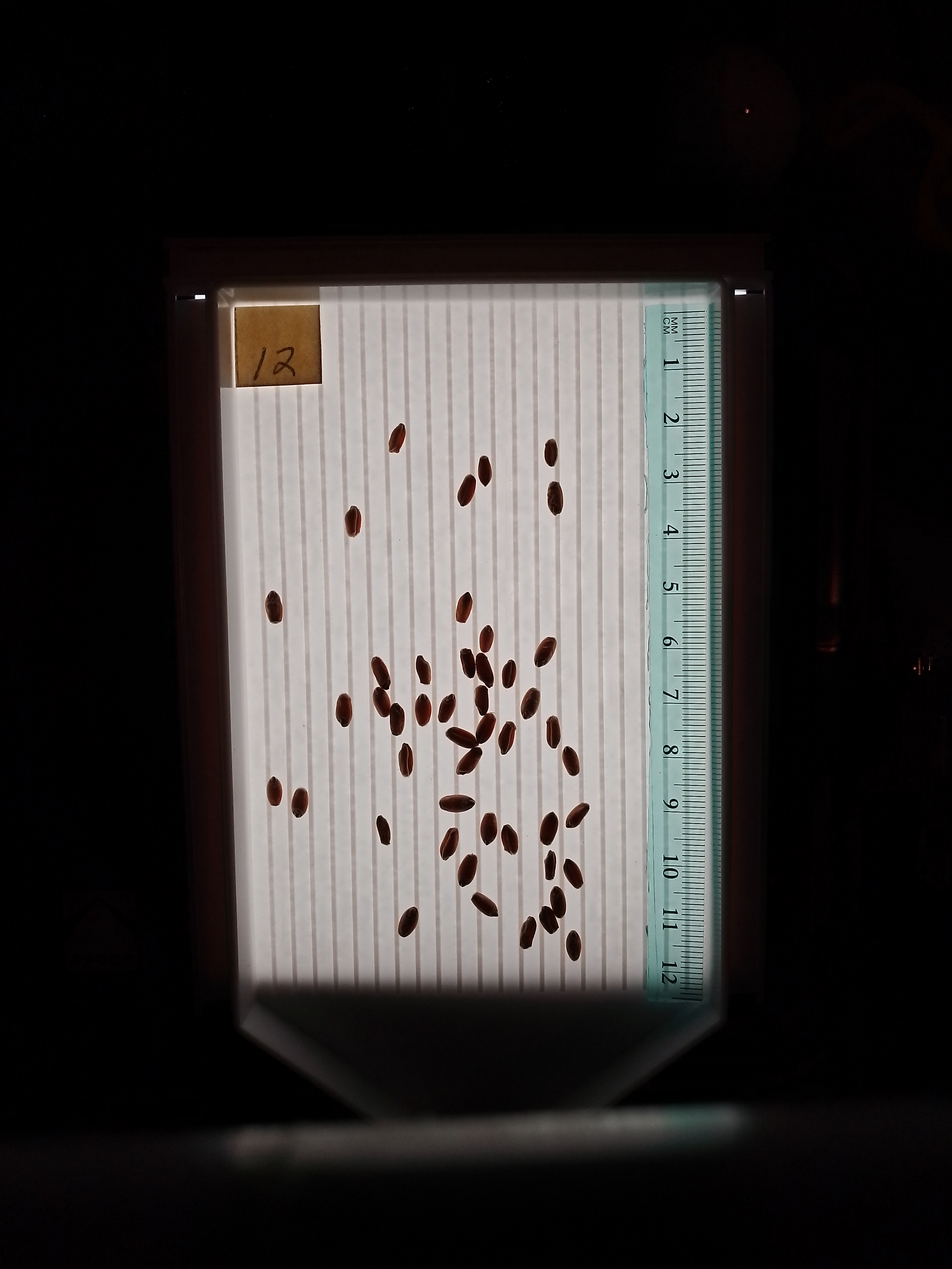seed mask: (535, 637, 557, 667), (457, 747, 481, 774), (398, 907, 419, 937), (472, 893, 498, 917), (440, 794, 474, 812), (447, 727, 476, 748), (539, 813, 558, 845), (335, 694, 353, 727), (440, 829, 459, 860), (458, 854, 476, 886), (566, 803, 588, 829), (476, 714, 495, 744), (547, 482, 564, 515), (372, 657, 390, 688), (480, 813, 498, 844), (564, 859, 583, 888), (476, 654, 493, 686), (521, 689, 539, 719), (458, 476, 476, 506), (265, 592, 282, 623), (373, 688, 391, 717), (501, 825, 519, 854), (388, 425, 406, 454), (520, 917, 536, 949), (389, 704, 405, 735), (456, 594, 473, 623), (291, 789, 308, 818), (415, 695, 431, 725), (499, 723, 515, 753), (345, 507, 361, 536), (439, 694, 455, 723), (563, 746, 579, 775), (399, 745, 413, 777), (540, 907, 557, 933), (566, 932, 581, 961), (267, 777, 282, 806), (416, 656, 431, 684), (551, 888, 565, 918), (547, 716, 560, 748), (377, 816, 391, 845), (502, 661, 517, 688), (461, 649, 475, 677), (544, 439, 558, 466), (475, 687, 489, 714), (478, 457, 491, 485), (479, 626, 493, 652), (544, 853, 556, 879)
